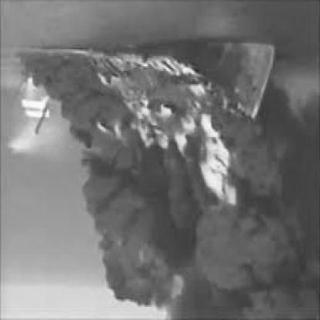Fire: (93, 77, 237, 206)
Smoke: (76, 202, 317, 320)
